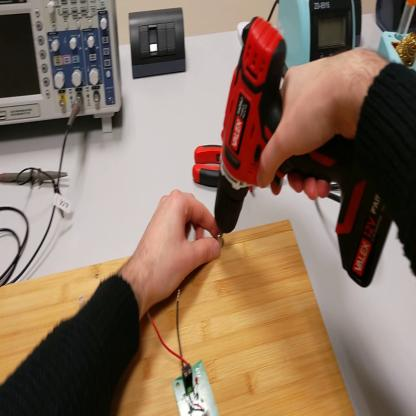electric screwdriver: (216, 15, 397, 290)
hand: (257, 47, 371, 199), (135, 190, 223, 303)
high voltage board: (144, 291, 221, 414)
oscilloscope: (1, 2, 122, 142)
oscilloscope probe tip: (2, 168, 69, 193)
pliers: (189, 144, 222, 187)
socket: (377, 1, 403, 35), (357, 4, 367, 45)
welder base: (378, 1, 416, 71)
welder station: (279, 1, 364, 81)
working area: (2, 222, 355, 413)
